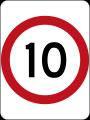Speed Limit -10-: (7, 17, 84, 100)
